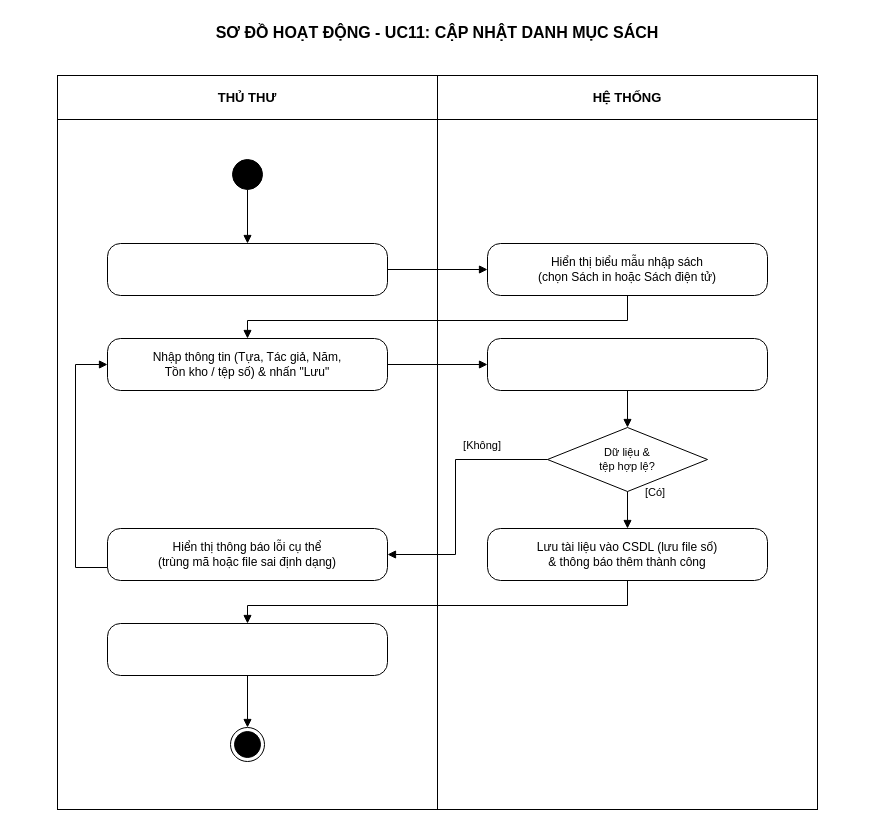
The diagram is 874 pixels wide and 827 high, and some of its shapes have lost their labels. Here are the shapes that lost their labels. From the top down, the box of each, then its label:
(106, 242, 388, 296): Chọn chức năng "Quản lý danh mục" & bấm nút "Thêm mới tài liệu"
(486, 338, 768, 390): Kiểm tra tính hợp lệ dữ liệu, định dạng tệp & mã sách trùng
(106, 622, 388, 676): Xác nhận và xem tài liệu mới trên bảng danh mục hệ thống
